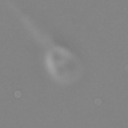normal: (1, 1, 52, 48)
